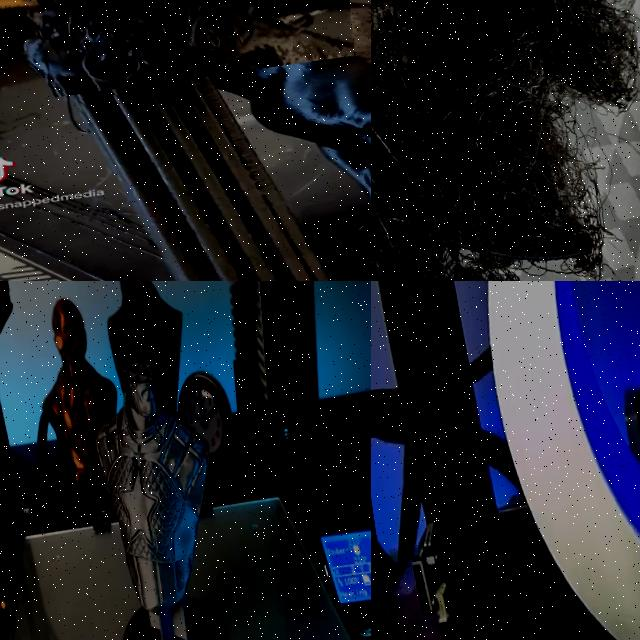spaghetti: (371, 0, 640, 281), (0, 0, 360, 105)
